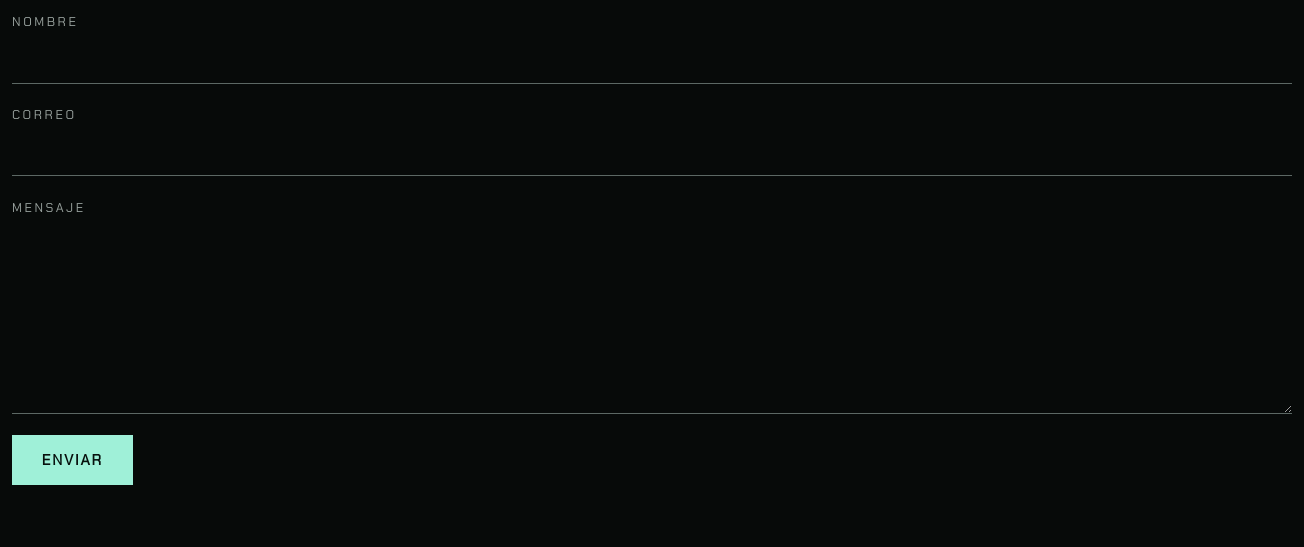
it: ContactForm › sends the fields, the language and the empty honeypot field, and confirms it arrived
In the field labelled "Nombre": [652, 60] box [12,37,1292,84], type "Ana"
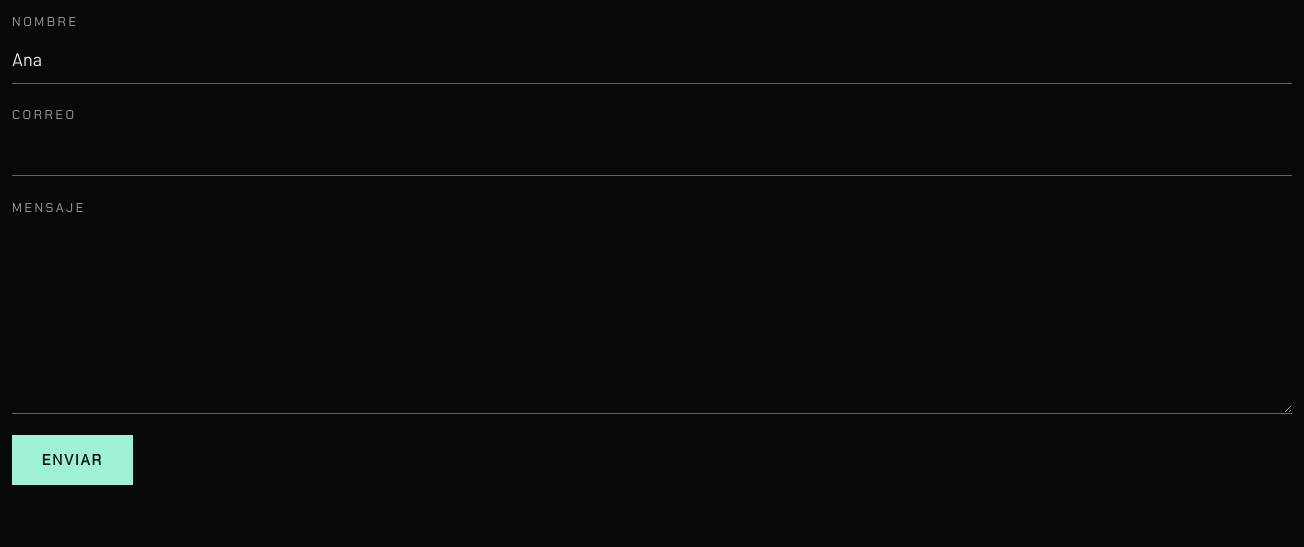
In the field labelled "Correo": [652, 153] box [12,129,1292,176], type "ana@example.com"
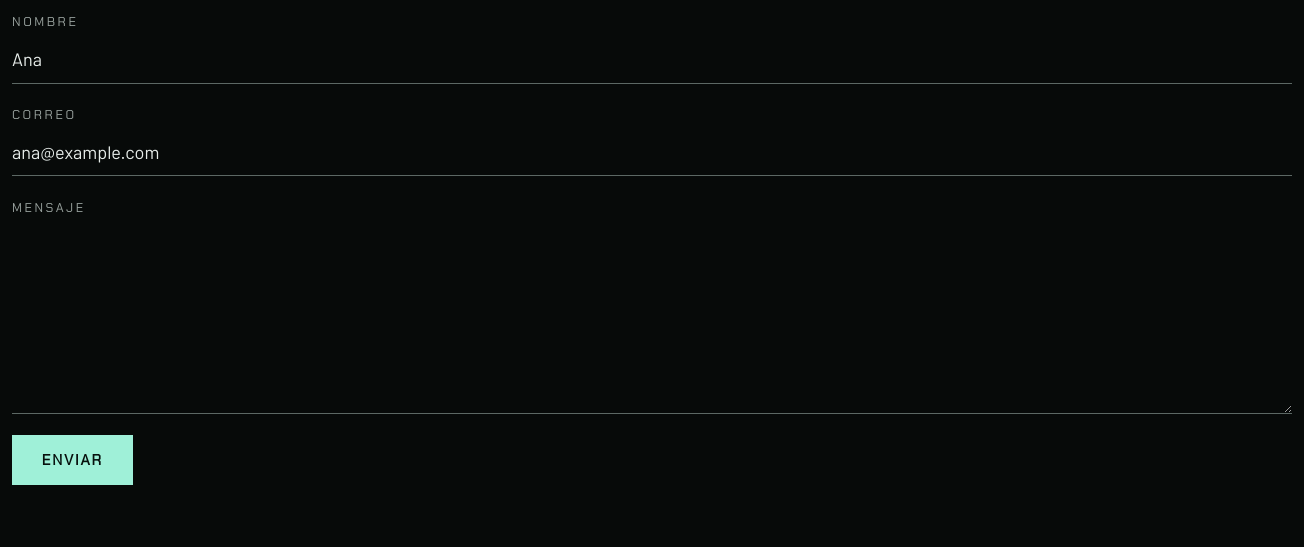
In the text box labelled "Mensaje": [652, 318] box [12,222,1292,414], type "Hola"
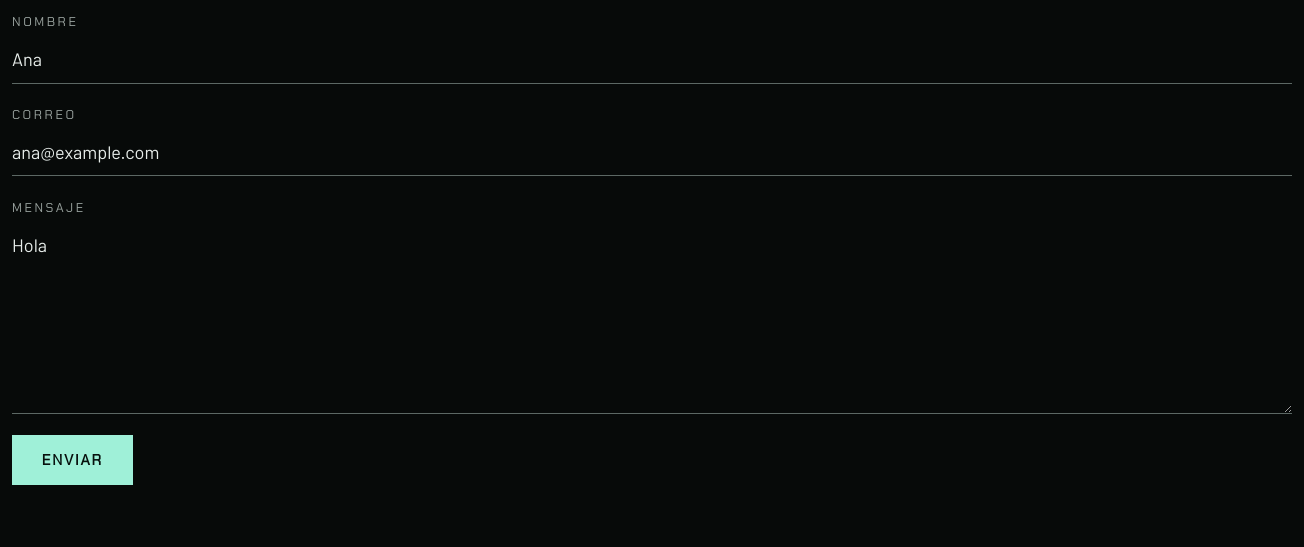
Click the button "Enviar": [72, 460] box [12,435,133,485]
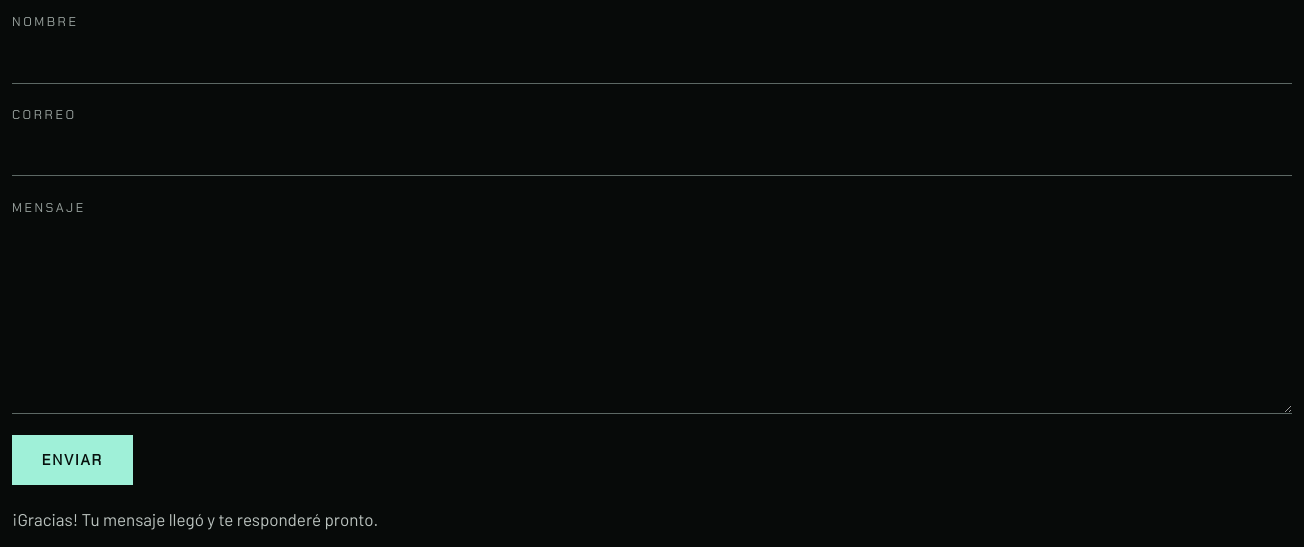
Expected: the text "¡Gracias! Tu mensaje llegó y te responderé pronto." is shown, [12,509,378,529]
Expected: the text box labelled "Mensaje" is empty, [12,222,1292,414]
